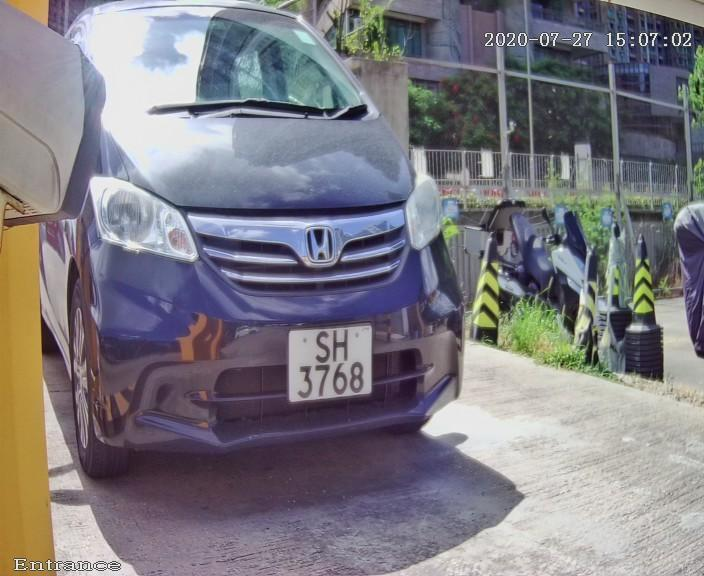privatecar: (19, 26, 503, 502)
